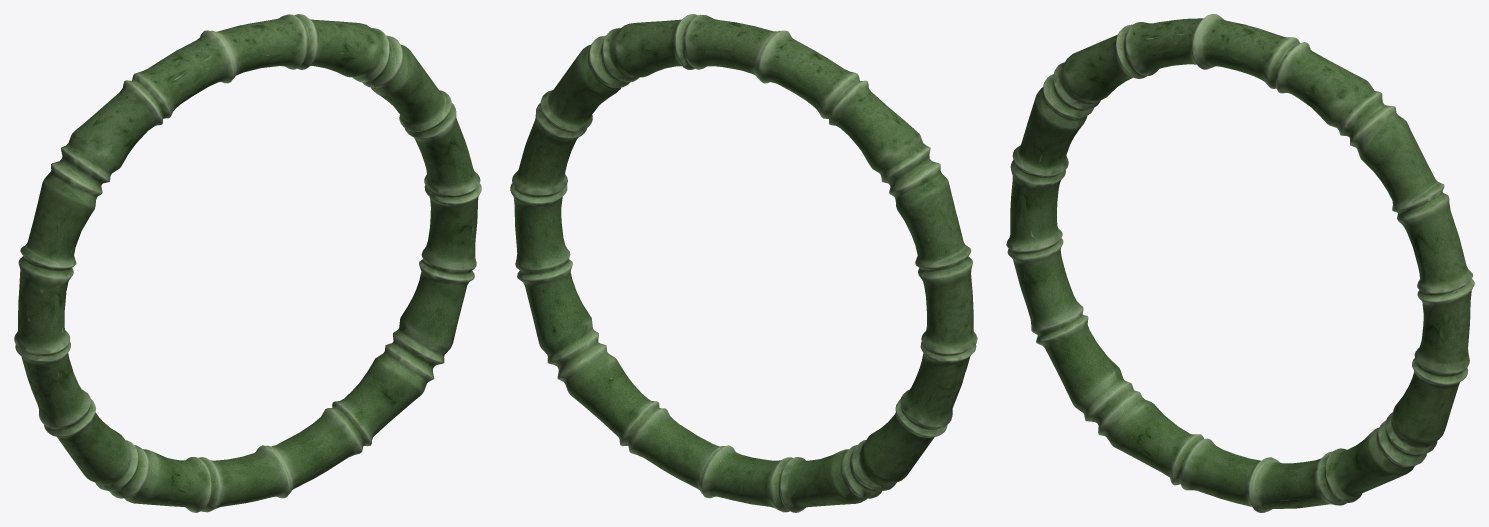
The model's file is ring_jade_bamboo_game.glb.
The picture shows the model from 3 angles, left to right: view 1: azimuth 30°, elevation 25°; view 2: azimuth 150°, elevation 25°; view 3: azimuth 330°, elevation 25°; orthographic projection.
Parts seen in each view (by area): view 1: Mesh_0; view 2: Mesh_0; view 3: Mesh_0.
Boxes of the visible parts, <box> form: Mesh_0: <box>14,14,481,512</box>; Mesh_0: <box>510,14,977,512</box>; Mesh_0: <box>1006,14,1474,512</box>.
Bounding box in the file's own units: 2.19 × 2.2 × 0.2798.
1 material, 1 textured.
